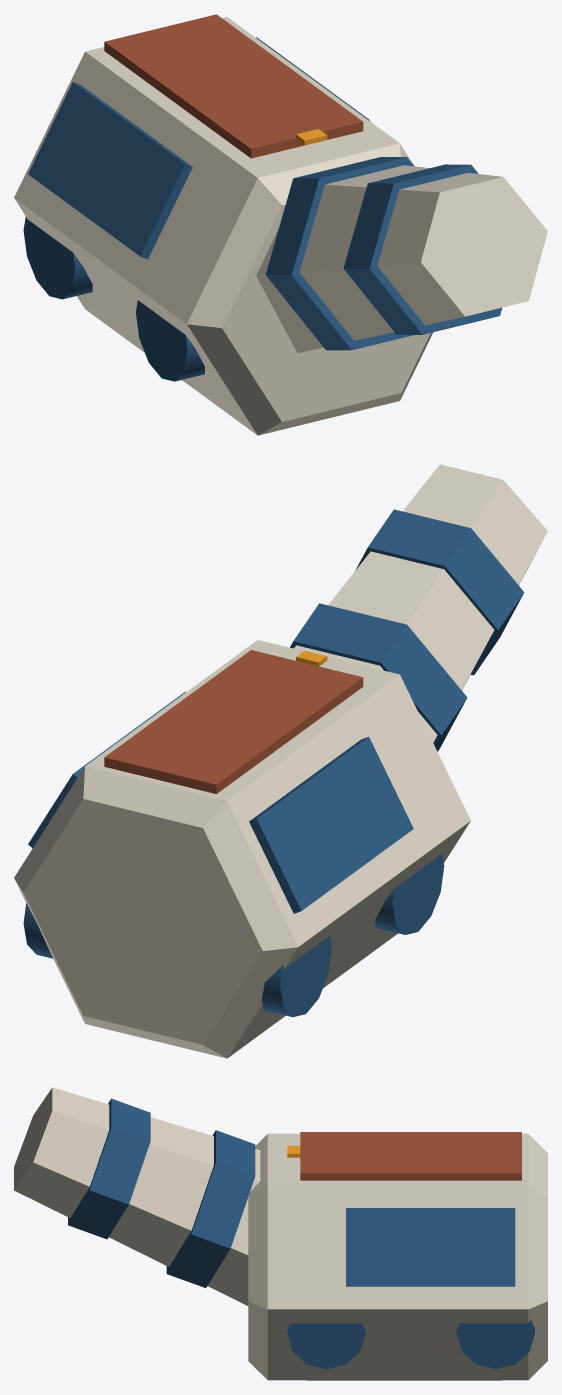
The model's file is rm2_thorax.obj.
3 renders of one model, top to bottom at view 1: azimuth 30°, elevation 25°; view 2: azimuth 150°, elevation 25°; view 3: azimuth 270°, elevation 25°, orthographic. The views are drawn at different scales.
Parts seen in each view (by area): view 1: rm2_thorax; view 2: rm2_thorax; view 3: rm2_thorax.
Boxes of the visible parts, bbox=[...] form: rm2_thorax: bbox=[14, 14, 547, 435]; rm2_thorax: bbox=[14, 464, 547, 1058]; rm2_thorax: bbox=[14, 1087, 547, 1380].
Bounding box in the file's own units: 0.38 × 0.444 × 0.8194.
